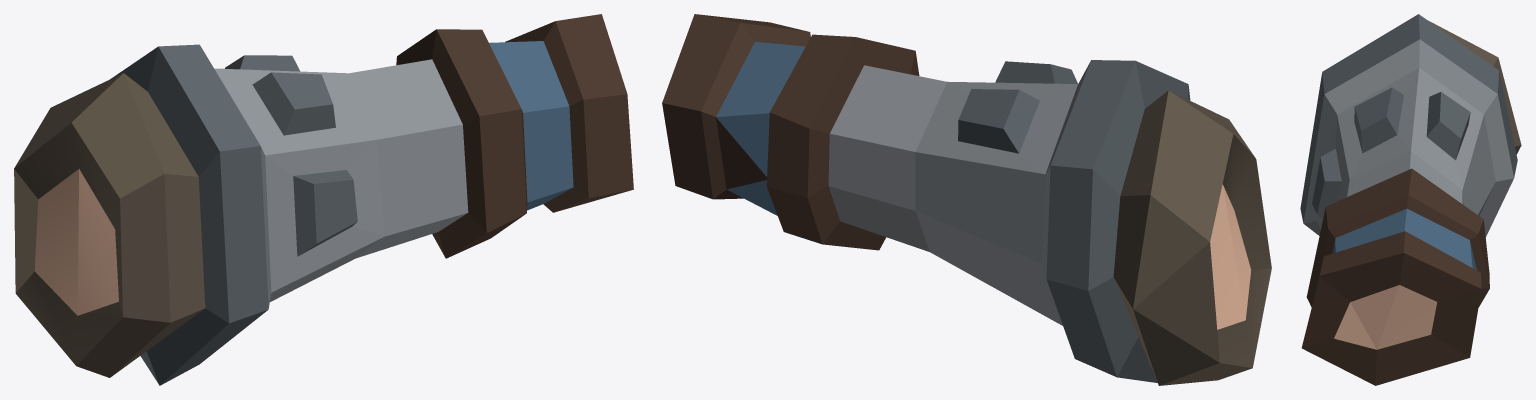
File: Chr_ArmLowerLeft_Female_15_Static.fbx
3 renders of one model, left to right at view 1: azimuth 30°, elevation 25°; view 2: azimuth 150°, elevation 25°; view 3: azimuth 270°, elevation 25°, orthographic. The views are drawn at different scales.
Visible parts, largest first — view 1: Chr_ArmLowerLeft_Female_15_Static; view 2: Chr_ArmLowerLeft_Female_15_Static; view 3: Chr_ArmLowerLeft_Female_15_Static.
Boxes of the visible parts, x1,y1,x2,y2 form: Chr_ArmLowerLeft_Female_15_Static: (14, 14, 633, 385); Chr_ArmLowerLeft_Female_15_Static: (662, 14, 1271, 385); Chr_ArmLowerLeft_Female_15_Static: (1300, 14, 1521, 385).
Bounding box in the file's own units: 0.3002 × 0.1691 × 0.123.
